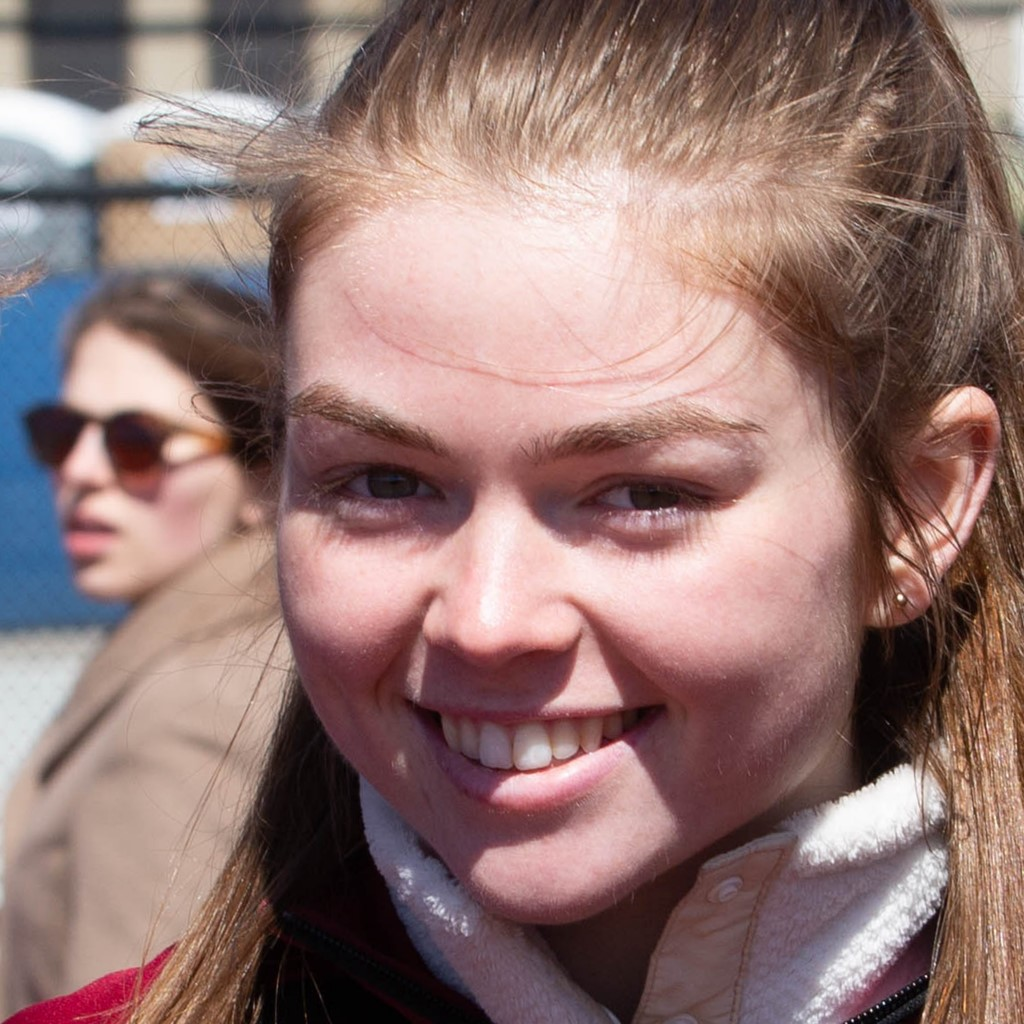sin_mascara: (263, 81, 889, 911)
